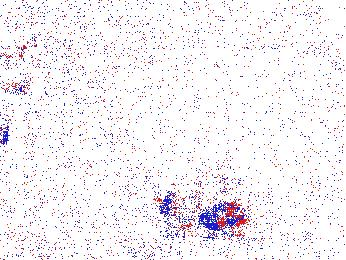flame jellyfish: (158, 178, 246, 235), (1, 46, 36, 144), (194, 164, 248, 216)
